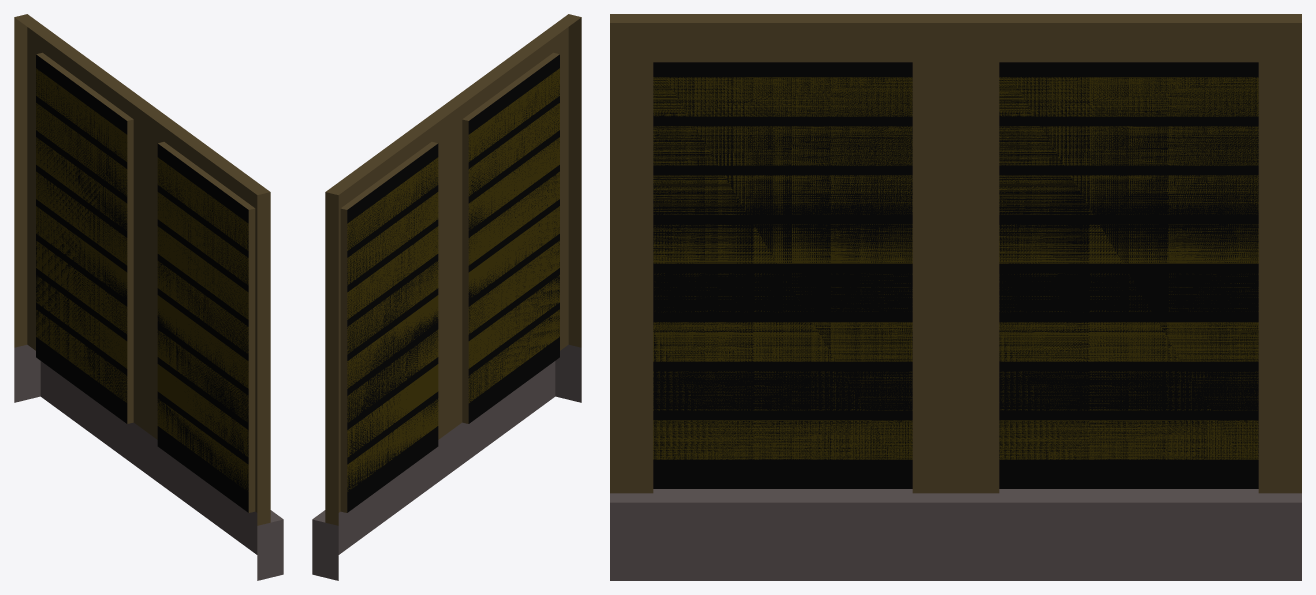
The picture shows the model from 3 angles, left to right: view 1: azimuth 30°, elevation 25°; view 2: azimuth 150°, elevation 25°; view 3: azimuth 270°, elevation 25°; orthographic projection. The views are drawn at different scales.
Size of the model in its own units: 0.0625 by 0.875 by 1.
